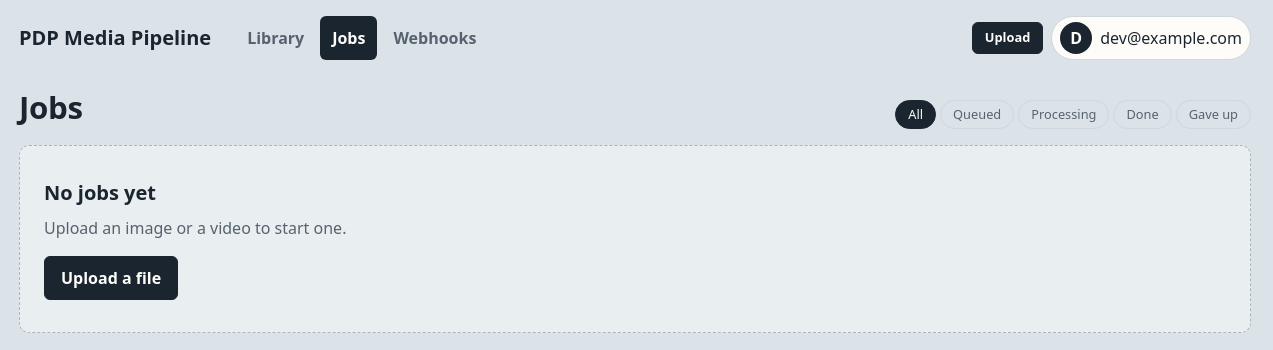
Scenario: jobs sheet › keeps the status filter in the URL
The width and height of the screenshot is (1273, 350).
Expected: the heading "No jobs yet" is shown, [44,178,156,208]
Click the button "Gave up": click(1213, 115) [1176,100,1251,129]
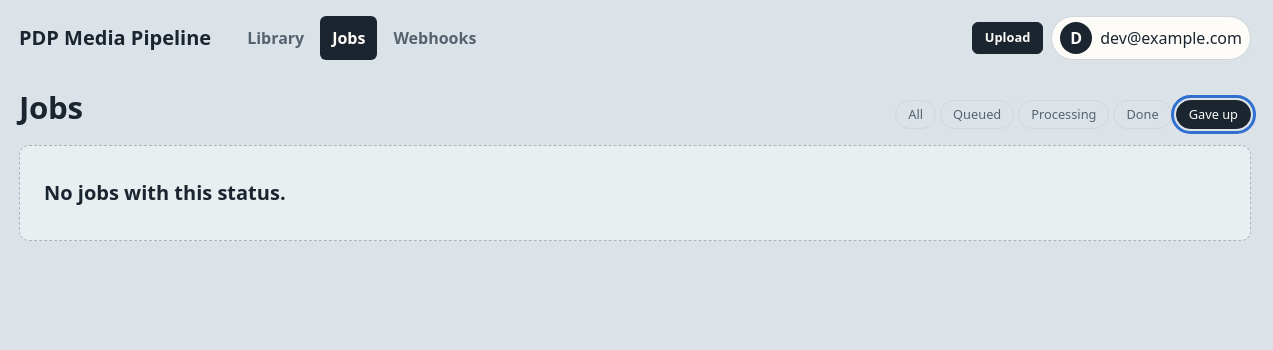
Now the heading "No jobs with this status." is shown, box [44,178,286,208]
